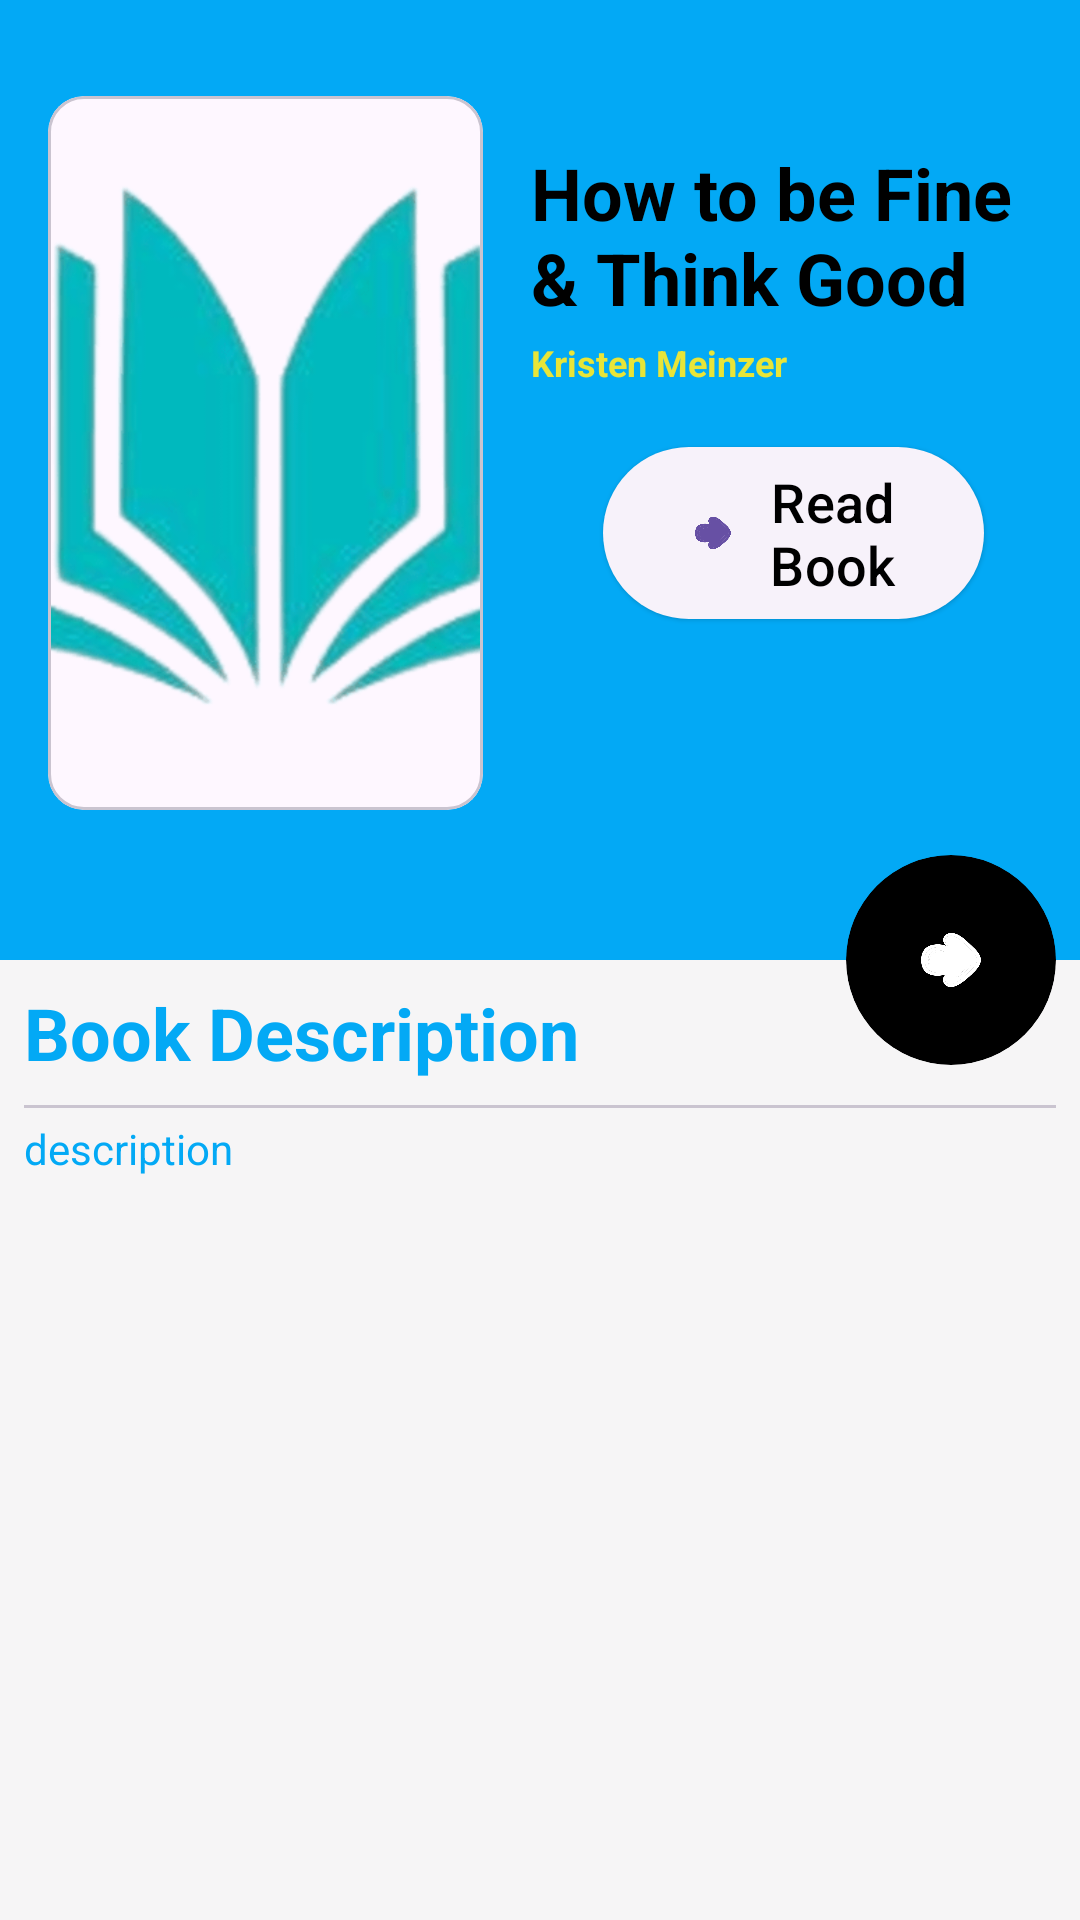

Point at icon controls on the screen. Image size 1080×1920, points as (x=x, y=y).
next: (x=951, y=960)
